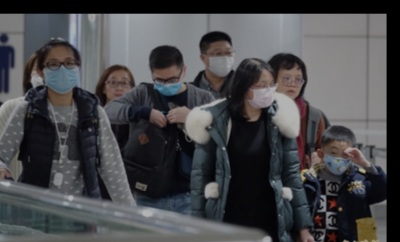with_mask: (42, 54, 80, 94), (206, 44, 235, 77), (320, 144, 351, 174), (248, 79, 276, 108), (152, 72, 182, 96)
without_mask: (278, 71, 304, 99), (105, 74, 132, 100)
